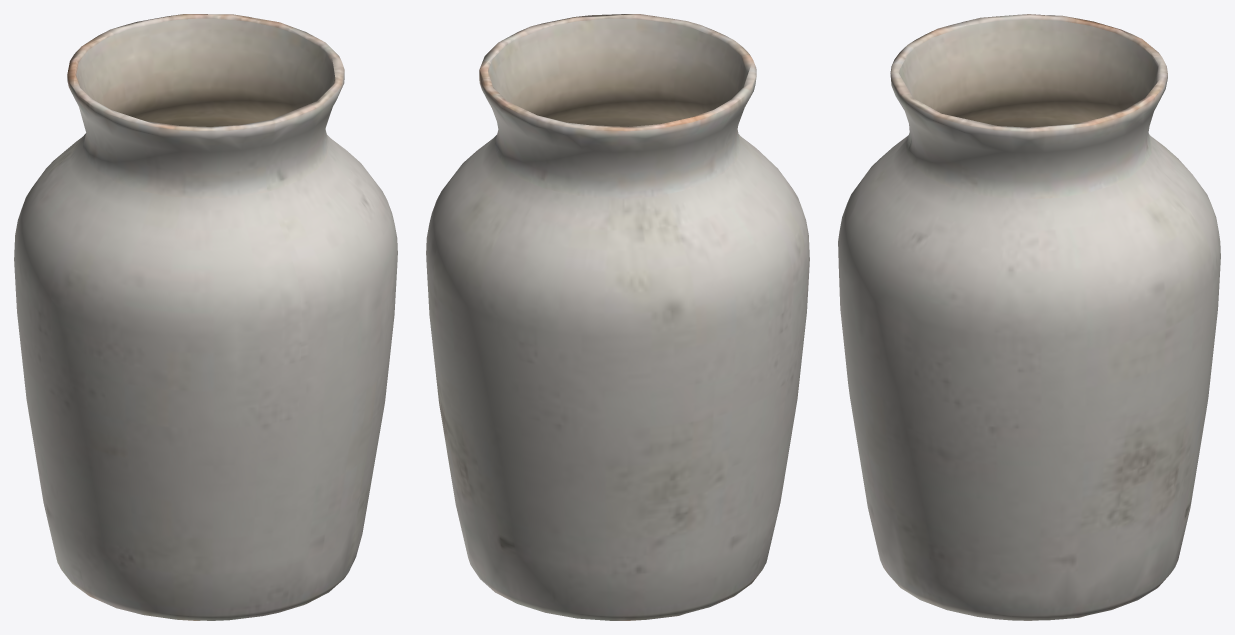
The model's file is ceramic_vase_02.glb.
3 renders of one model, left to right at view 1: azimuth 30°, elevation 25°; view 2: azimuth 150°, elevation 25°; view 3: azimuth 270°, elevation 25°, orthographic.
Parts seen in each view (by area): view 1: ceramic_vase_02; view 2: ceramic_vase_02; view 3: ceramic_vase_02.
Boxes of the visible parts, left/top/right/bottom form: ceramic_vase_02: left=14, top=14, right=397, bottom=620; ceramic_vase_02: left=426, top=14, right=809, bottom=620; ceramic_vase_02: left=838, top=14, right=1220, bottom=620.
Bounding box in the file's own units: 0.2184 × 0.3091 × 0.218.
1 material, 1 textured.
